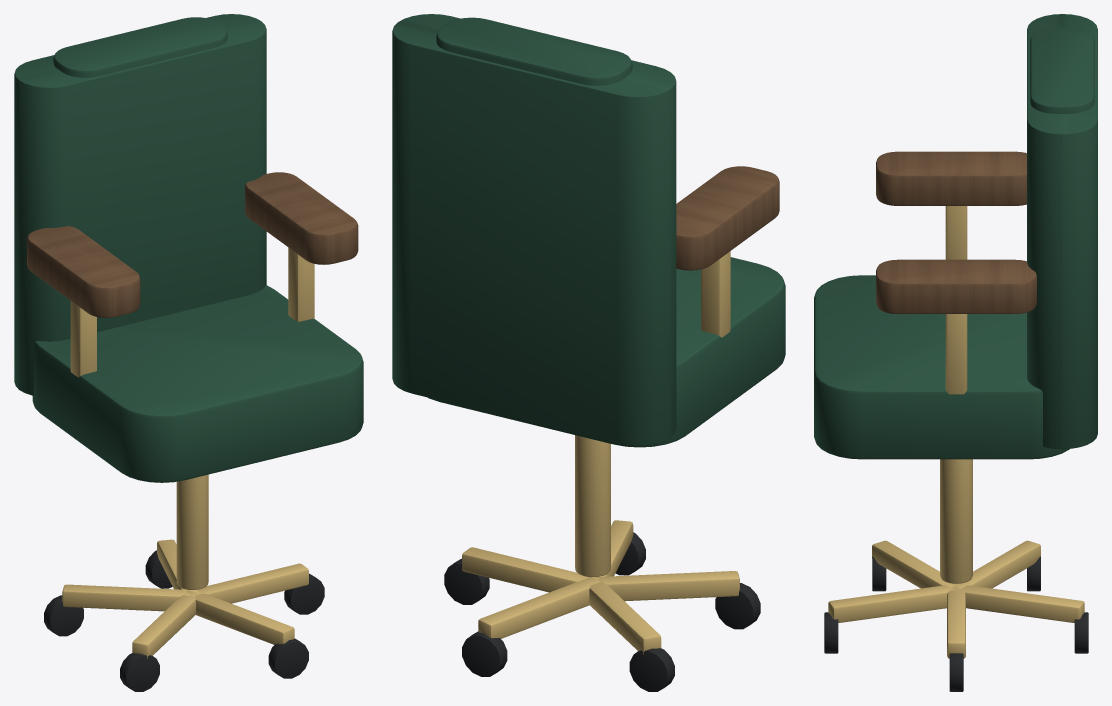
File: office_chair_country_club.glb
3 views of the same model, side by side, from view 1: azimuth 30°, elevation 25°; view 2: azimuth 150°, elevation 25°; view 3: azimuth 270°, elevation 25° (orthographic). The views are drawn at different scales.
Parts seen in each view (by area): view 1: OfficeChair_Back, OfficeChair_Seat, OfficeChair_ArmPad_-1, OfficeChair_ArmPad_1, OfficeChair_Headrest, OfficeChair_GasLift, OfficeChair_BaseArm_3, OfficeChair_BaseArm_5, OfficeChair_BaseArm_1, OfficeChair_BaseArm_4, OfficeChair_ArmPost_-1, OfficeChair_ArmPost_1 (+6 smaller); view 2: OfficeChair_Back, OfficeChair_Seat, OfficeChair_ArmPad_-1, OfficeChair_Headrest, OfficeChair_GasLift, OfficeChair_BaseArm_4, OfficeChair_BaseArm_2, OfficeChair_BaseArm_1, OfficeChair_BaseArm_3, OfficeChair_ArmPost_-1, OfficeChair_Caster_3, OfficeChair_Caster_2 (+4 smaller); view 3: OfficeChair_Seat, OfficeChair_Back, OfficeChair_ArmPad_1, OfficeChair_ArmPad_-1, OfficeChair_Headrest, OfficeChair_GasLift, OfficeChair_BaseArm_2, OfficeChair_BaseArm_5, OfficeChair_ArmPost_1, OfficeChair_BaseArm_3, OfficeChair_BaseArm_4, OfficeChair_ArmPost_-1 (+4 smaller).
Part boxes in pixels (left/top/right/bottom): OfficeChair_Back: left=14, top=14, right=266, bottom=395; OfficeChair_Seat: left=32, top=285, right=363, bottom=482; OfficeChair_ArmPad_-1: left=27, top=226, right=140, bottom=317; OfficeChair_ArmPad_1: left=245, top=172, right=358, bottom=264; OfficeChair_Headrest: left=53, top=17, right=227, bottom=77; OfficeChair_GasLift: left=176, top=474, right=208, bottom=589; OfficeChair_BaseArm_3: left=62, top=584, right=194, bottom=611; OfficeChair_BaseArm_5: left=195, top=593, right=294, bottom=644; OfficeChair_BaseArm_1: left=186, top=563, right=308, bottom=603; OfficeChair_BaseArm_4: left=132, top=595, right=196, bottom=658; OfficeChair_ArmPost_-1: left=70, top=301, right=96, bottom=377; OfficeChair_ArmPost_1: left=288, top=247, right=314, bottom=321; OfficeChair_Back: left=392, top=14, right=676, bottom=445; OfficeChair_Seat: left=428, top=257, right=785, bottom=447; OfficeChair_ArmPad_-1: left=676, top=166, right=779, bottom=270; OfficeChair_Headrest: left=436, top=17, right=632, bottom=85; OfficeChair_GasLift: left=575, top=435, right=610, bottom=577; OfficeChair_BaseArm_4: left=588, top=571, right=739, bottom=601; OfficeChair_BaseArm_2: left=478, top=577, right=600, bottom=638; OfficeChair_BaseArm_1: left=462, top=547, right=599, bottom=592; OfficeChair_BaseArm_3: left=589, top=578, right=661, bottom=654; OfficeChair_ArmPost_-1: left=701, top=251, right=730, bottom=337; OfficeChair_Caster_3: left=629, top=648, right=674, bottom=691; OfficeChair_Caster_2: left=462, top=631, right=507, bottom=676; OfficeChair_Seat: left=814, top=275, right=1069, bottom=459; OfficeChair_Back: left=1027, top=14, right=1097, bottom=449; OfficeChair_ArmPad_1: left=876, top=259, right=1036, bottom=313; OfficeChair_ArmPad_-1: left=876, top=151, right=1026, bottom=205; OfficeChair_Headrest: left=1030, top=27, right=1094, bottom=113; OfficeChair_GasLift: left=940, top=459, right=972, bottom=583; OfficeChair_BaseArm_2: left=951, top=585, right=1084, bottom=622; OfficeChair_BaseArm_5: left=828, top=585, right=955, bottom=622; OfficeChair_ArmPost_1: left=945, top=314, right=967, bottom=394; OfficeChair_BaseArm_3: left=952, top=540, right=1040, bottom=588; OfficeChair_BaseArm_4: left=872, top=540, right=955, bottom=589; OfficeChair_ArmPost_-1: left=945, top=206, right=967, bottom=259.
Size of what is drawn, in the model's own units: 0.5848 by 1.17 by 0.5284.
Materials: 4 (1 with a texture image).
